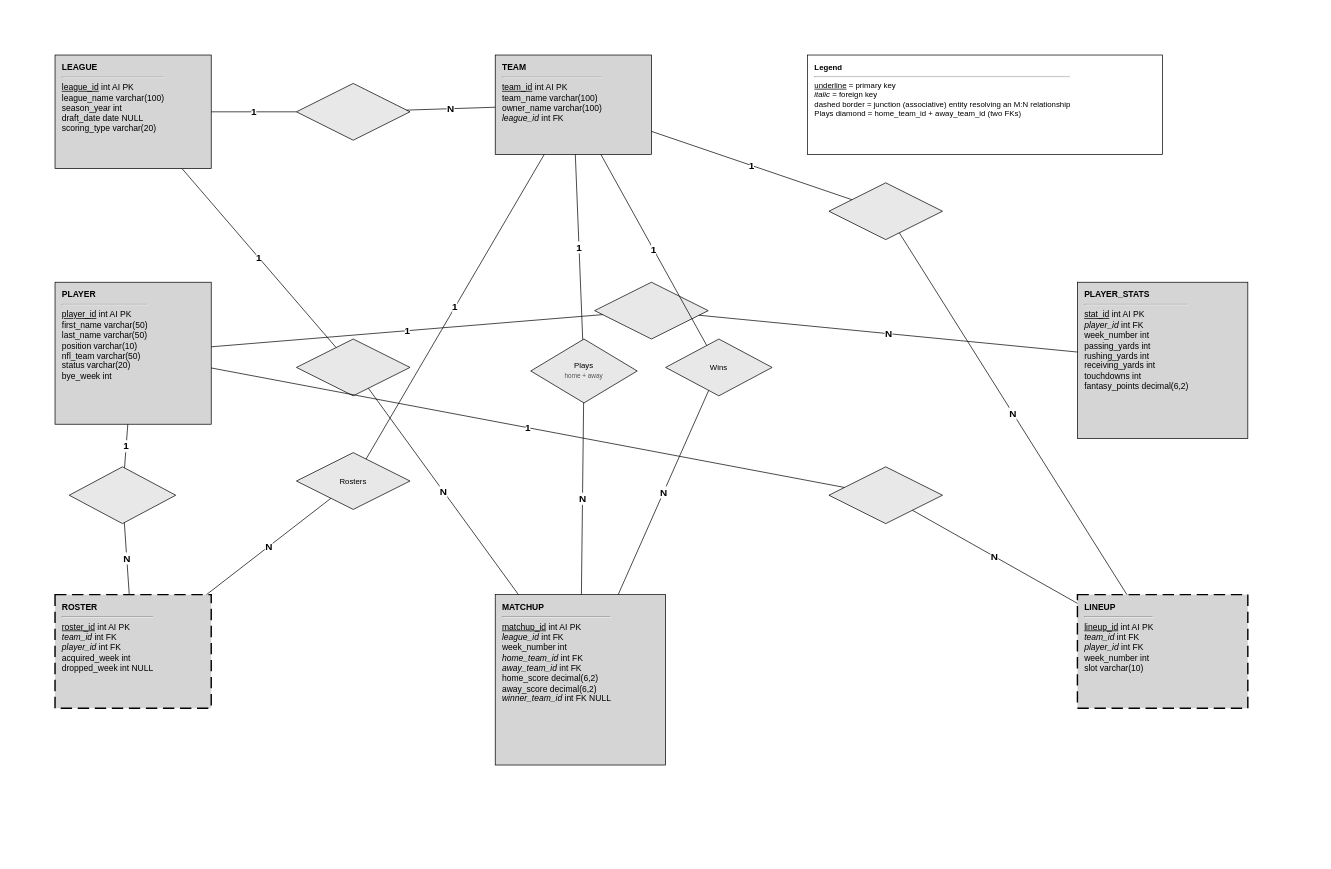
The diagram is 1331 pixels wide and 869 high, and some of its shapes have lost their labels. Here are the shapes that lost their labels. From the top down, the box of each, then its label:
(296, 83, 410, 140): Contains
(828, 182, 943, 240): Submits
(594, 282, 708, 339): Records
(296, 338, 410, 396): Schedules
(69, 466, 176, 524): Belongs to
(828, 466, 943, 524): Starts
